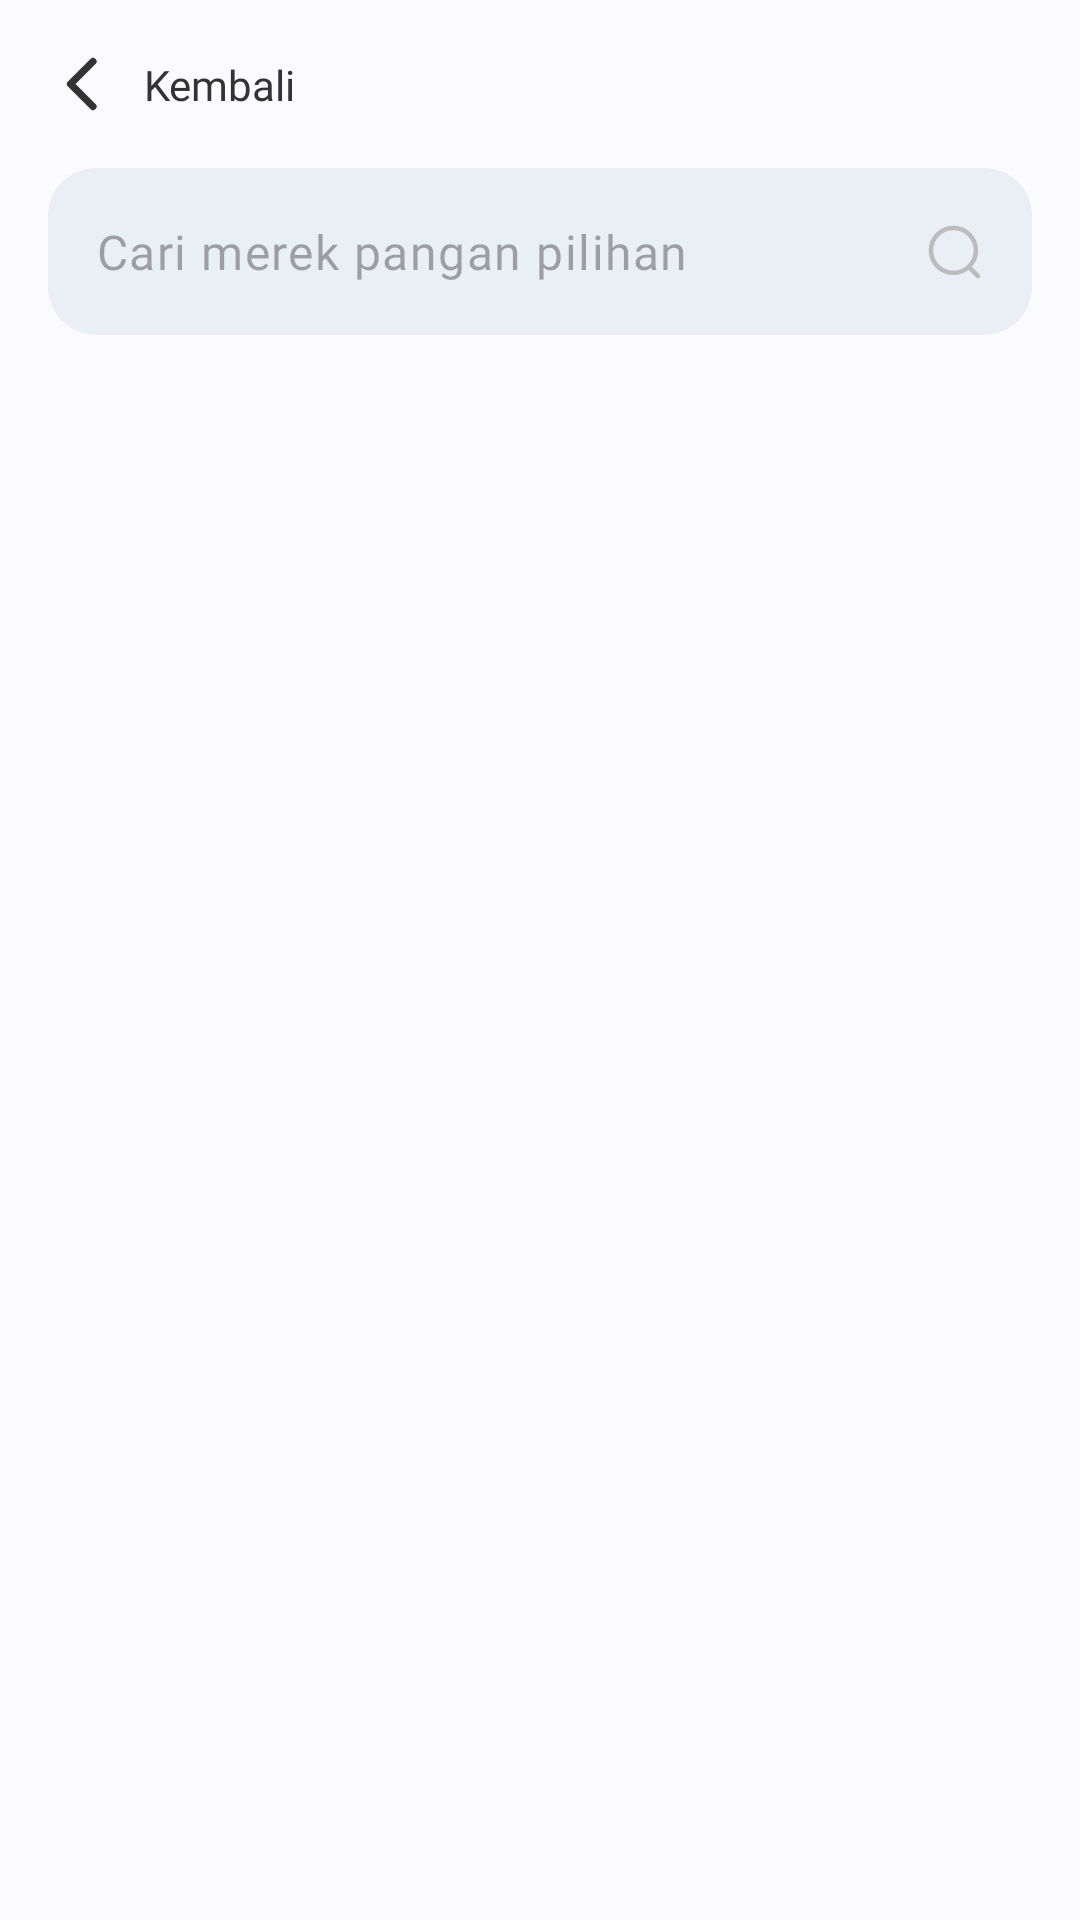

Screen size 1080*1920. Icon name, then its box in pixels as bbox(x1, y1, x2, y2):
caretleft: bbox(66, 57, 97, 111)
